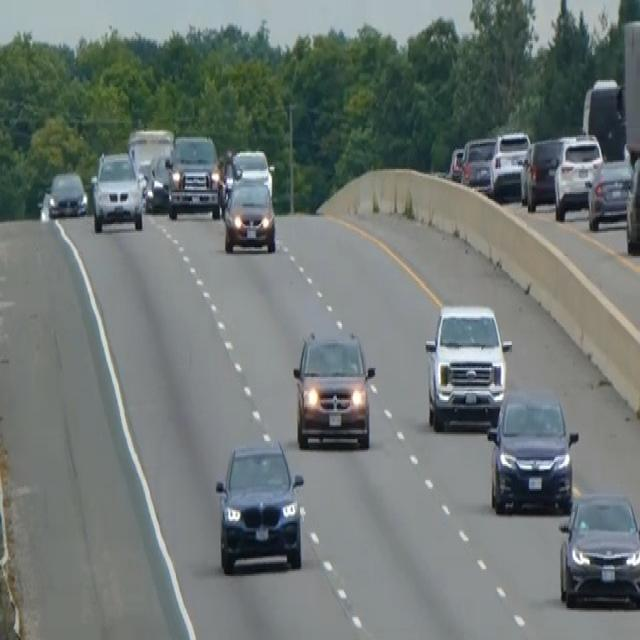bus: (580, 75, 627, 162)
car: (485, 386, 578, 514), (557, 489, 639, 610), (166, 132, 222, 218), (89, 147, 144, 233), (553, 132, 603, 220), (223, 176, 276, 254), (586, 157, 633, 231), (519, 135, 563, 210), (489, 130, 531, 199), (223, 146, 273, 197), (460, 134, 496, 190), (47, 169, 87, 219), (144, 151, 172, 212), (624, 150, 639, 254), (448, 144, 464, 181)
jeep: (213, 438, 305, 574), (423, 300, 512, 432)
minivan: (290, 324, 377, 452)
